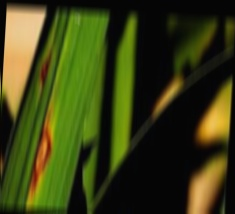Brown_Spot: (24, 109, 53, 196), (37, 44, 50, 85)
